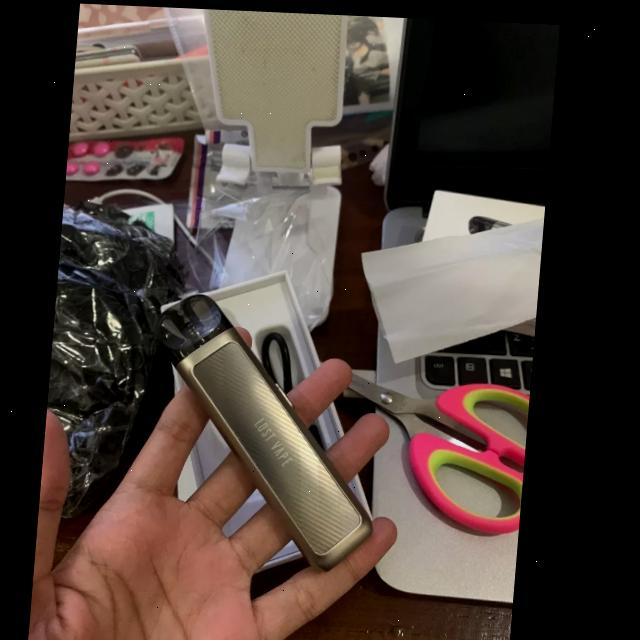vape: (142, 290, 398, 573)
